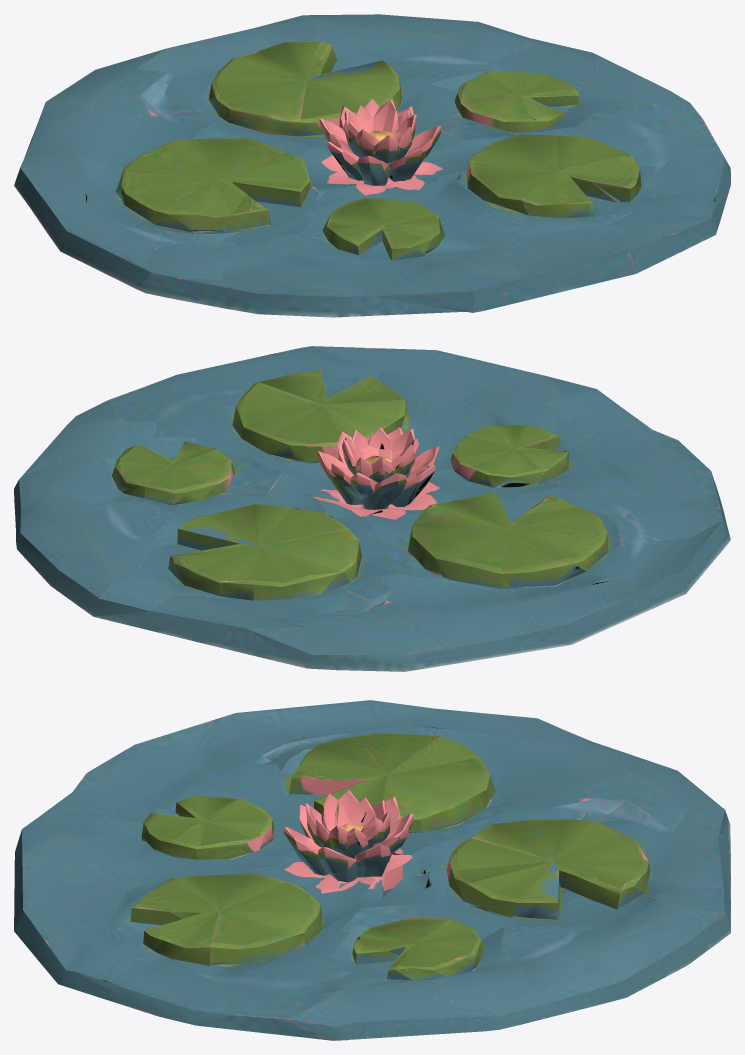
Rendered from lily-pads.glb.
The picture shows the model from 3 angles, top to bottom: view 1: azimuth 30°, elevation 25°; view 2: azimuth 150°, elevation 25°; view 3: azimuth 270°, elevation 25°; orthographic projection. The views are drawn at different scales.
Parts seen in each view (by area): view 1: output_unwrapped; view 2: output_unwrapped; view 3: output_unwrapped.
Part boxes in pixels (x1,y1,x2,y2): output_unwrapped: [14, 14, 730, 317]; output_unwrapped: [14, 346, 730, 671]; output_unwrapped: [14, 700, 730, 1040].
Bounding box in the file's own units: 1.9 × 0.2073 × 1.79.
1 material, 1 textured.
